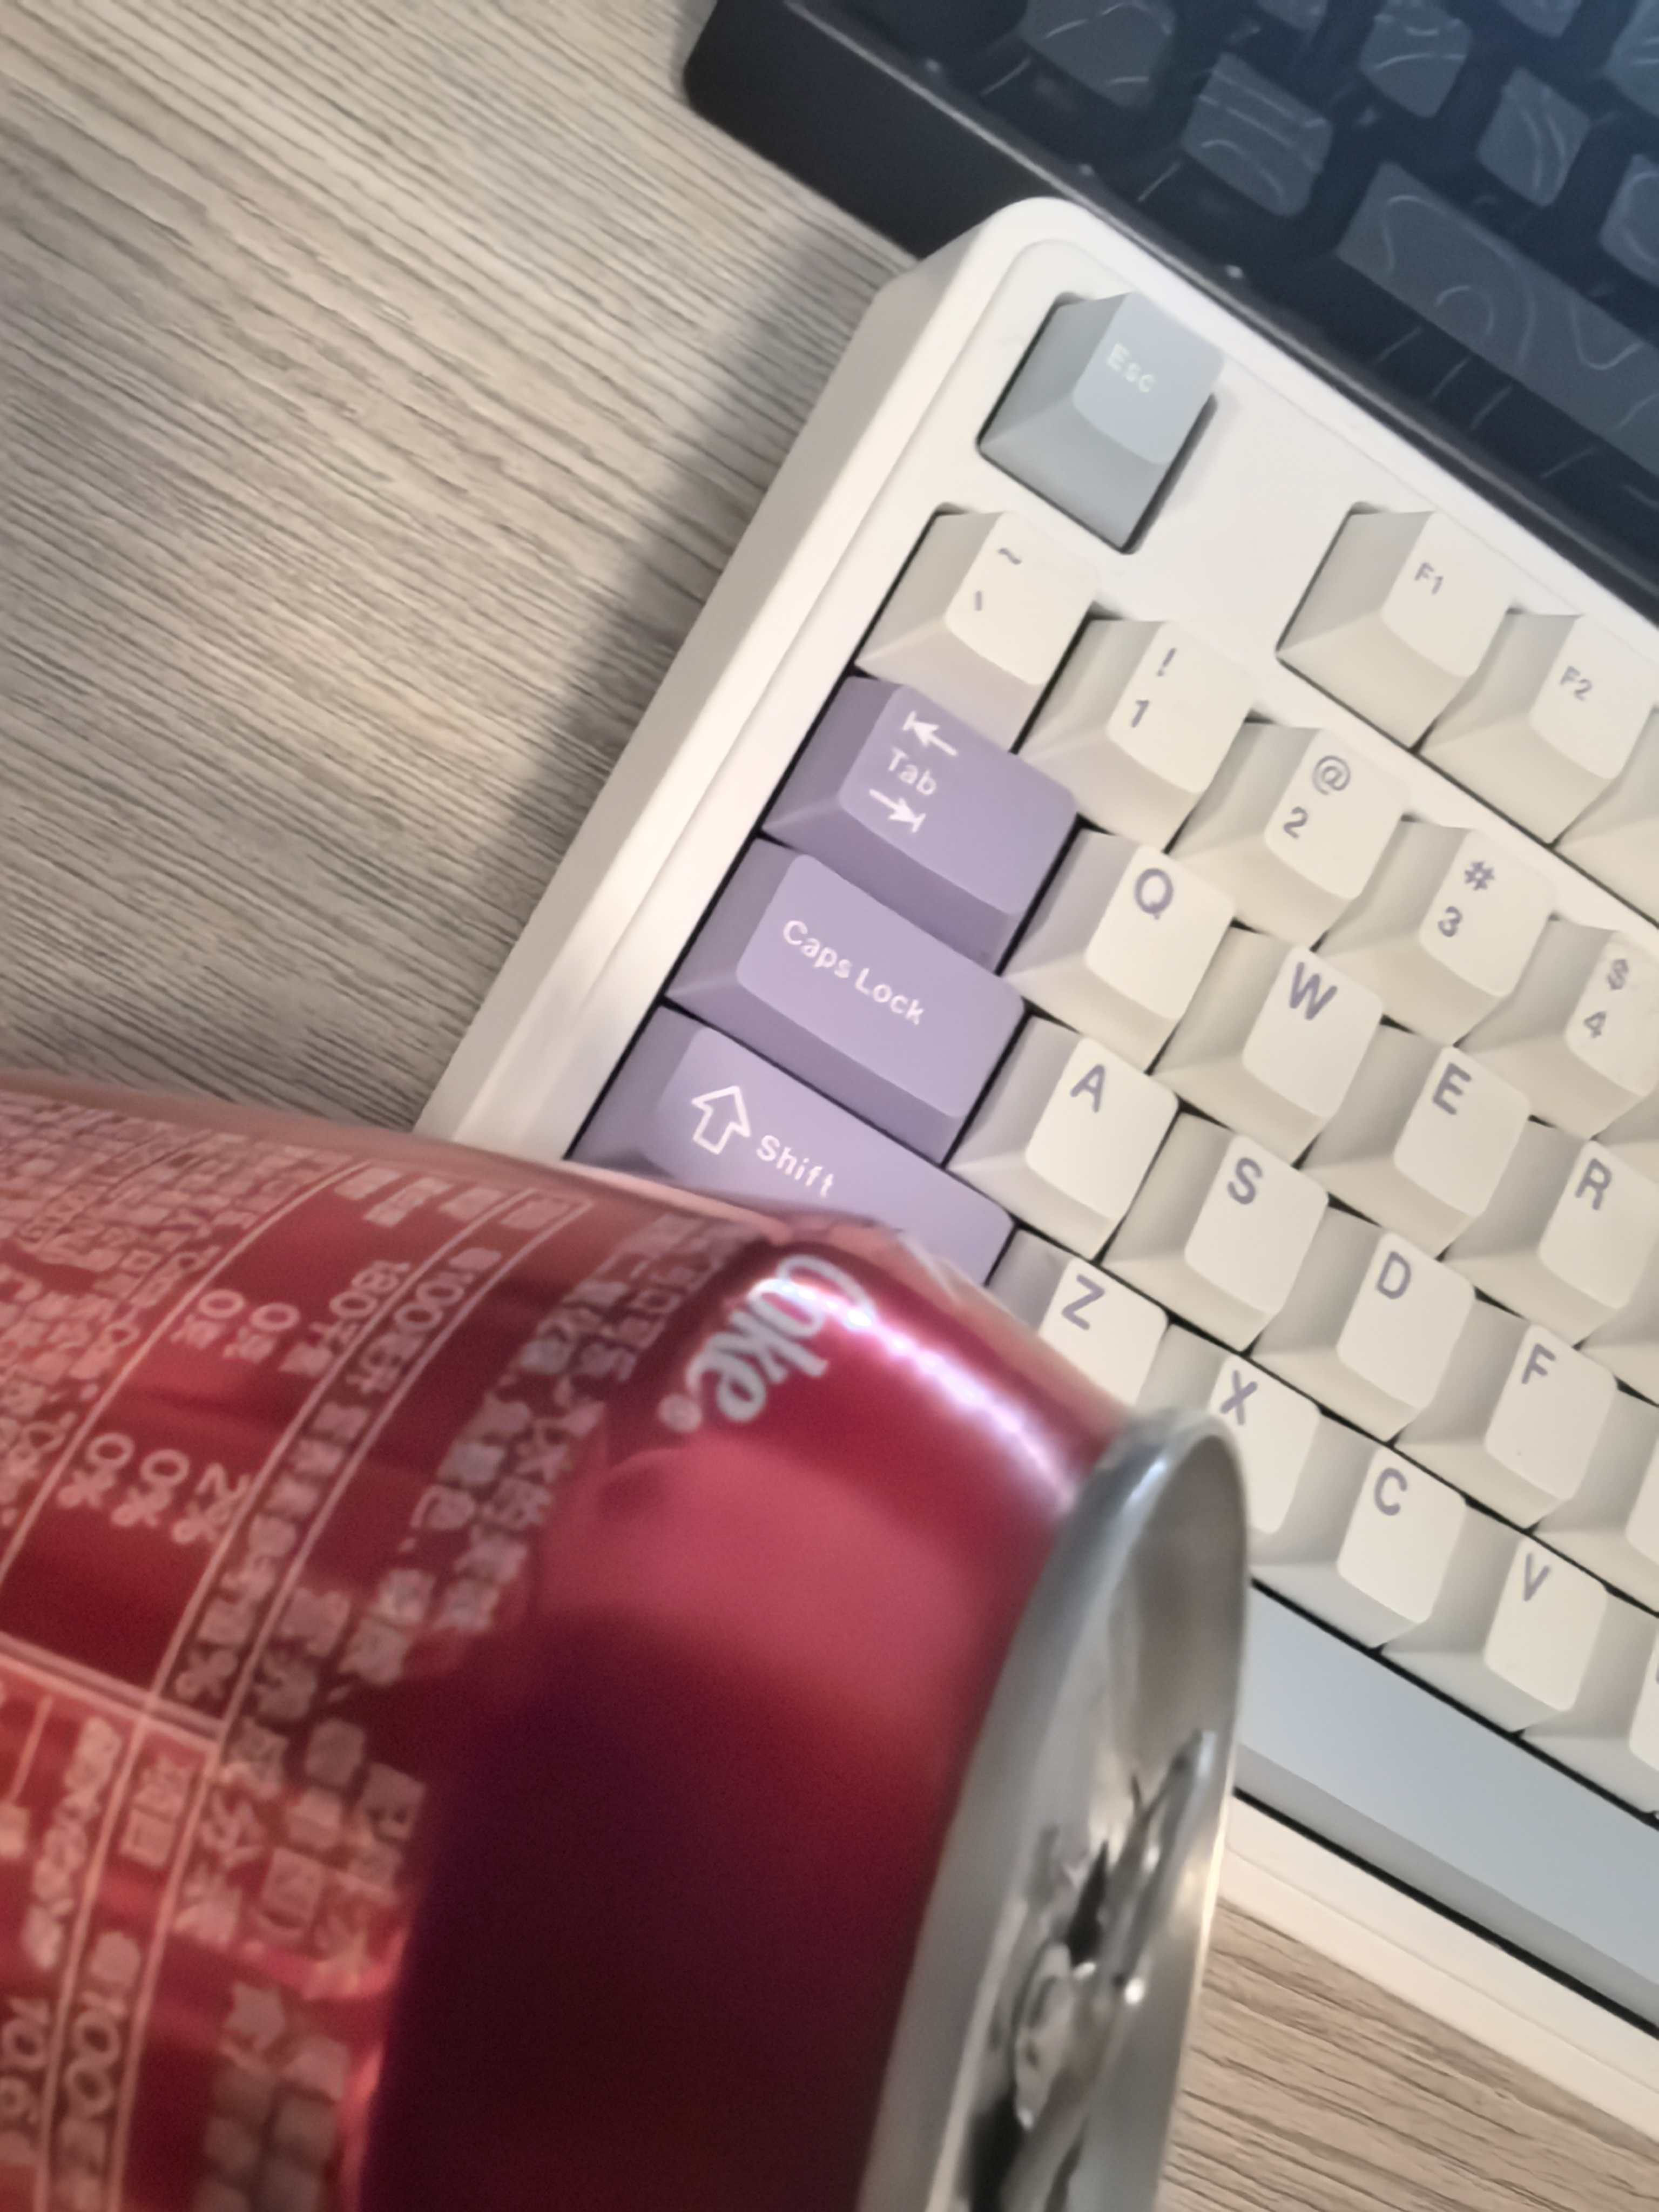可乐: (5, 1015, 1291, 2196)
